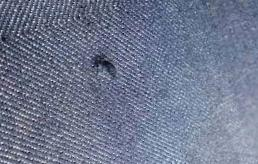knot: (93, 56, 121, 79)
